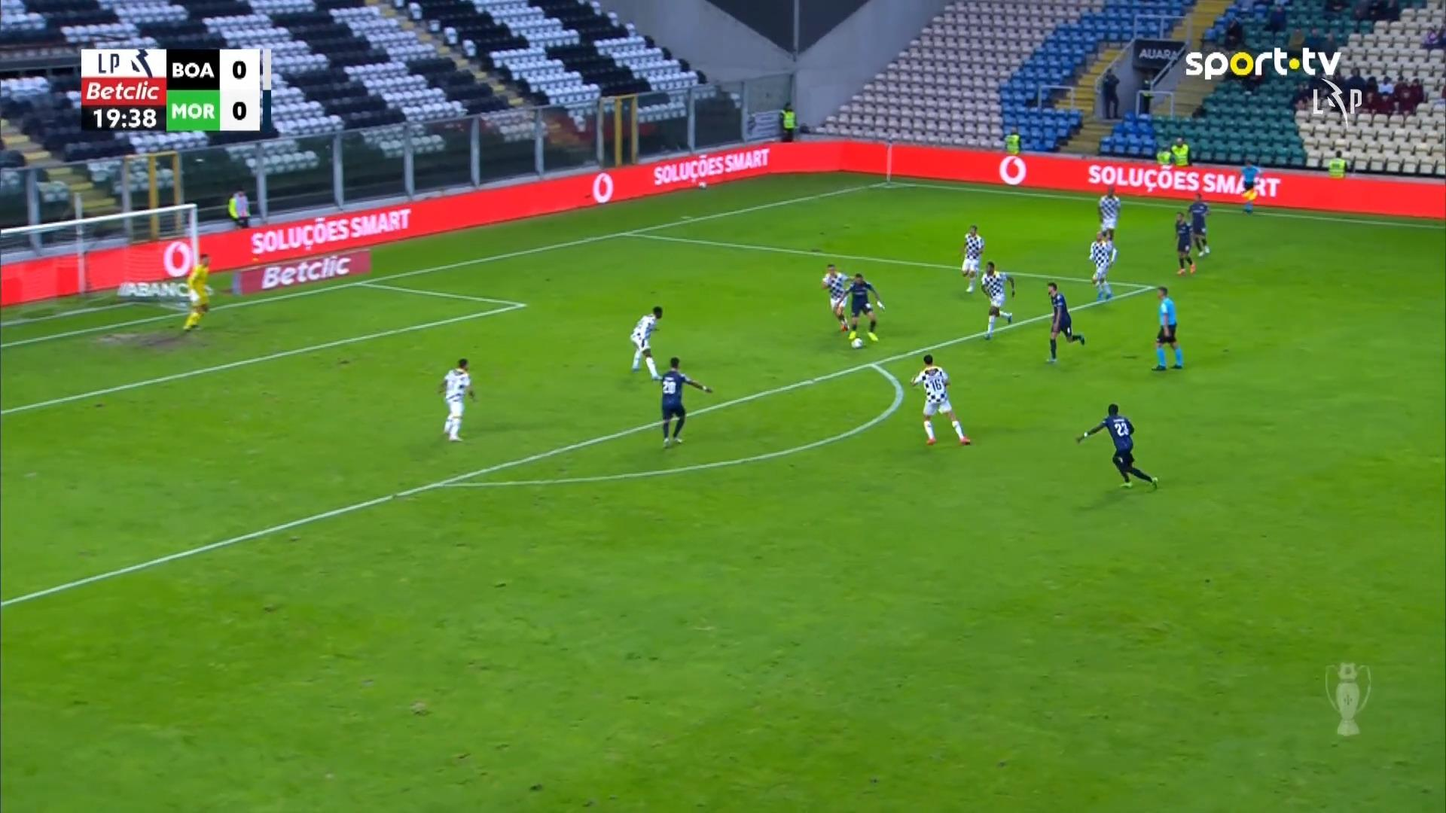ball: (850, 337, 864, 348)
goalkeeper: (182, 252, 213, 332)
player: (1075, 402, 1158, 490), (910, 353, 971, 446), (658, 356, 713, 448), (1044, 281, 1085, 364), (437, 358, 476, 442), (841, 272, 884, 348), (980, 260, 1015, 340), (629, 305, 663, 380), (1088, 228, 1116, 300), (821, 263, 850, 332), (960, 224, 984, 292), (1173, 211, 1197, 276), (1097, 184, 1121, 248), (1188, 191, 1211, 256)
referee: (1151, 285, 1183, 370), (1238, 157, 1261, 213)
